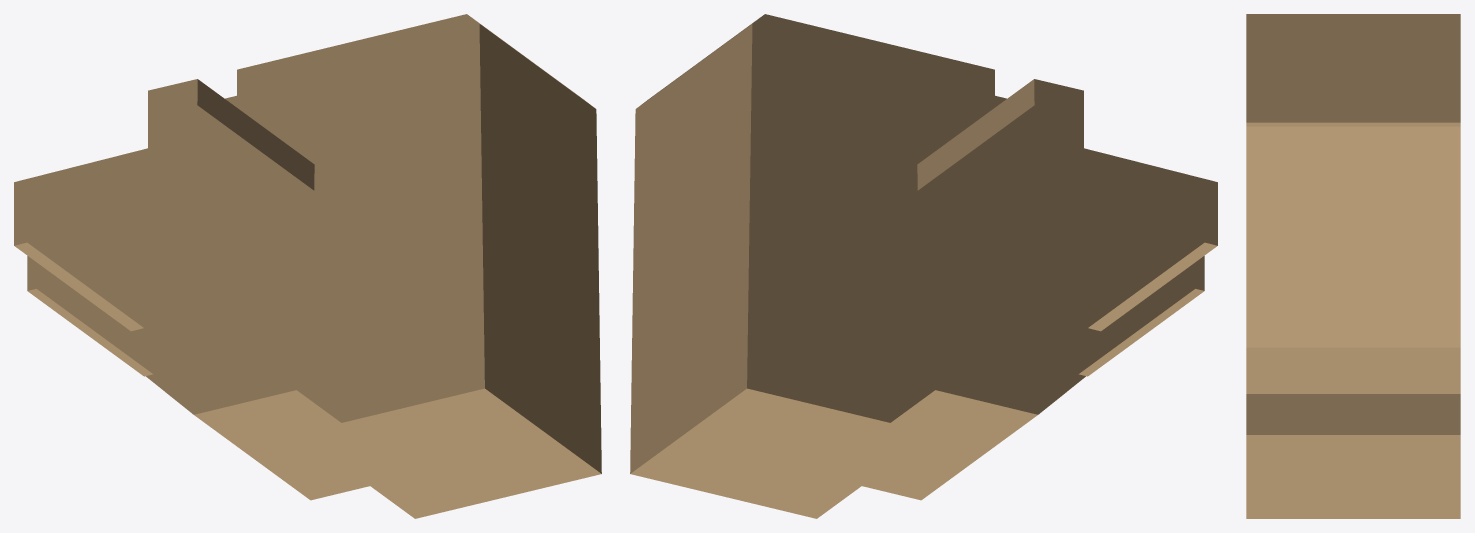
3 renders of one model, left to right at view 1: azimuth 30°, elevation 25°; view 2: azimuth 150°, elevation 25°; view 3: azimuth 270°, elevation 25°, orthographic. The views are drawn at different scales.
Parts seen in each view (by area): view 1: 0_3_2_0_2_3_1_0; view 2: 0_3_2_0_2_3_1_0; view 3: 0_3_2_0_2_3_1_0.
Part boxes in pixels (x1,y1,x2,y2): 0_3_2_0_2_3_1_0: (14,14,601,518); 0_3_2_0_2_3_1_0: (630,14,1217,518); 0_3_2_0_2_3_1_0: (1246,14,1460,518).
Size of the model in its own units: 62.79 by 48.44 by 27.
